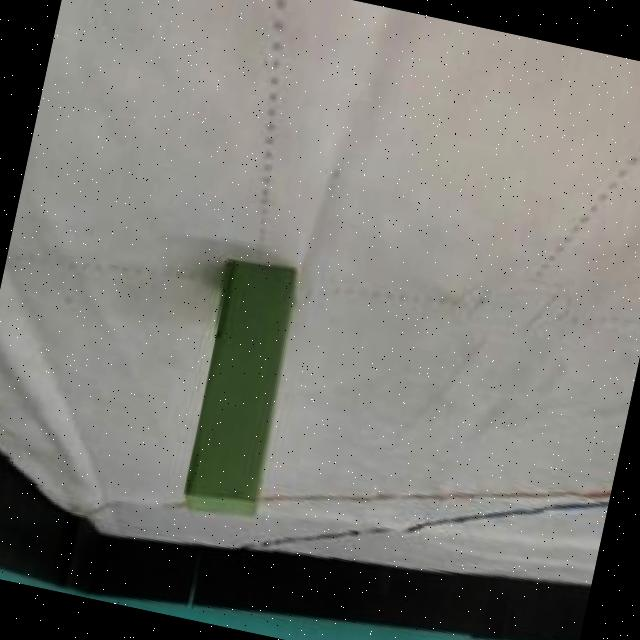greenbox: (168, 248, 318, 534)
